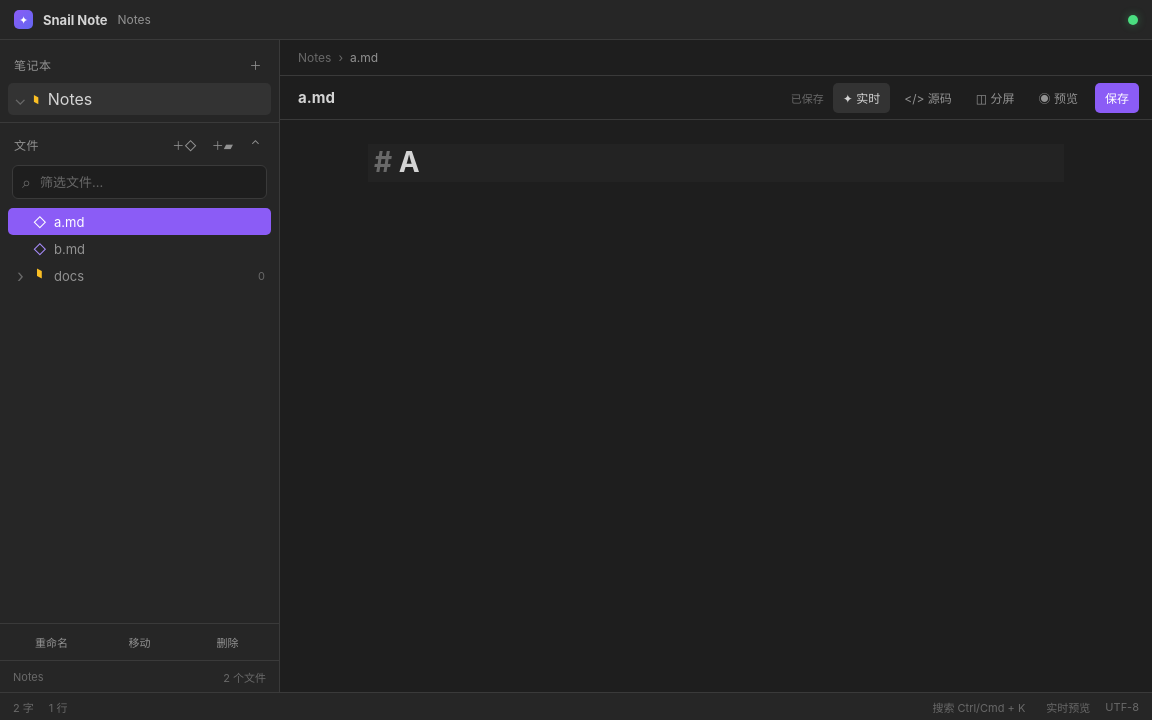
App workspace navigation › creates notes through an in-app prompt instead of window.prompt
The image size is (1152, 720).
Expected: the text "已保存" is shown, [791,90,824,106]
Click the button titled "新建笔记 (Ctrl/Cmd+N)": (184, 144) [166,131,203,158]
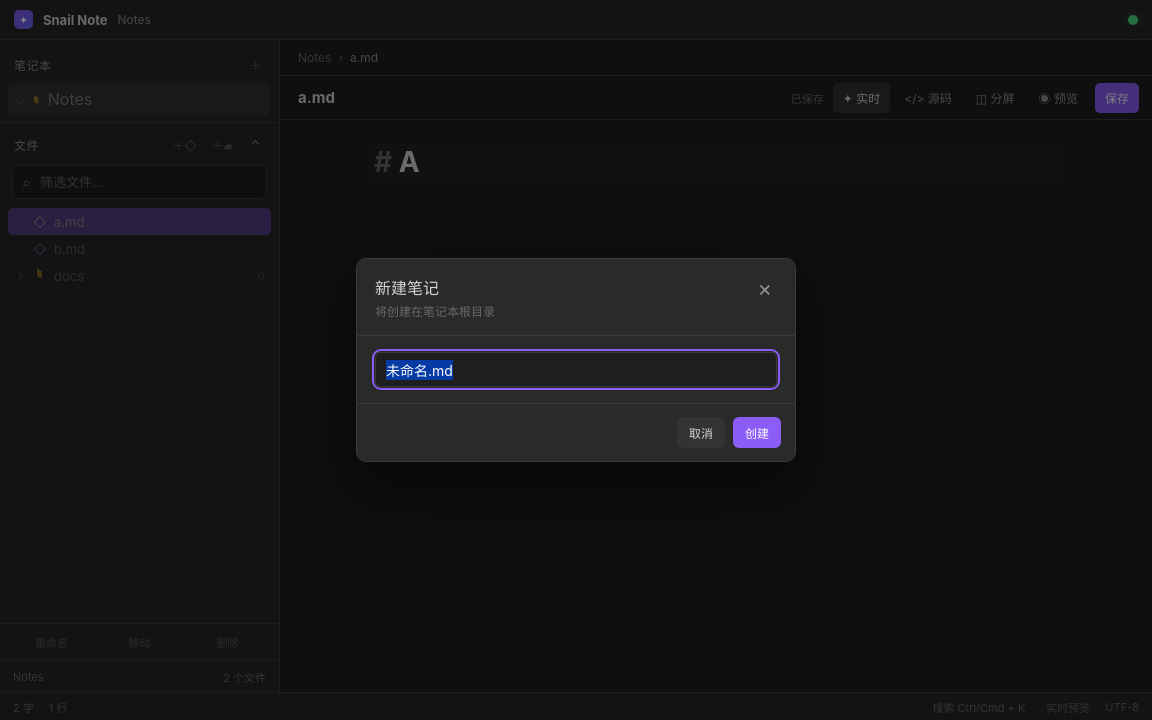
Replace the text in the field with "会议": (576, 370) [375,352,777,387]
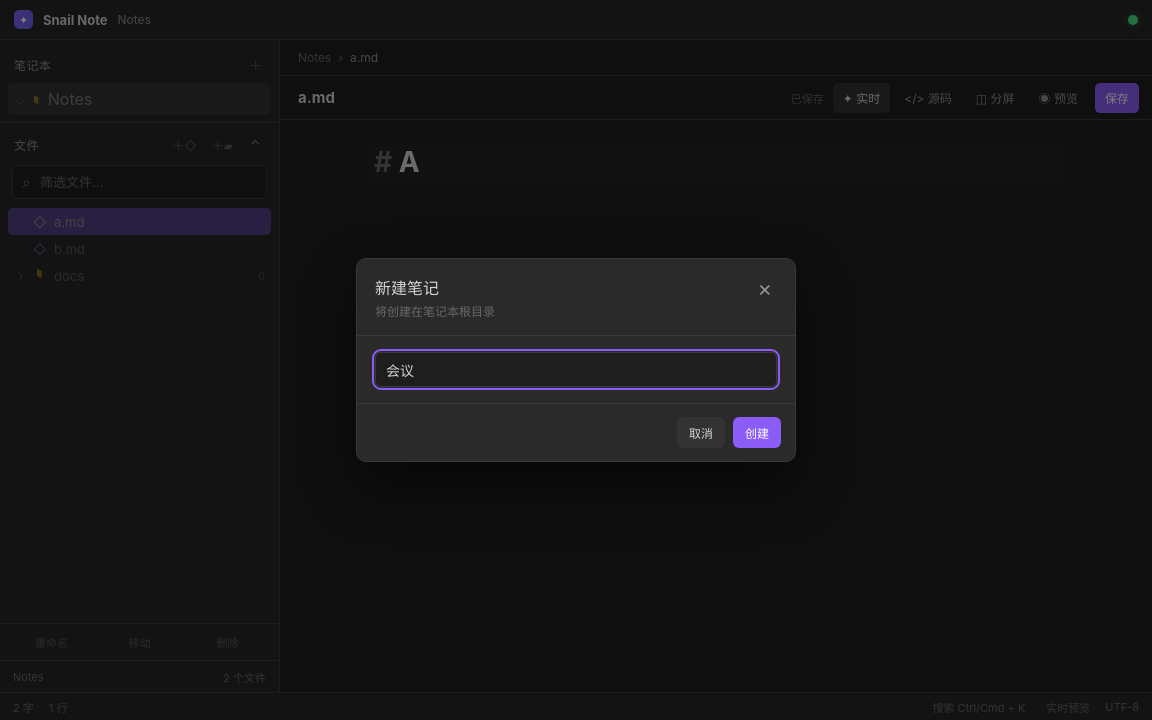
Click the button "创建": (757, 432) [733,417,781,448]
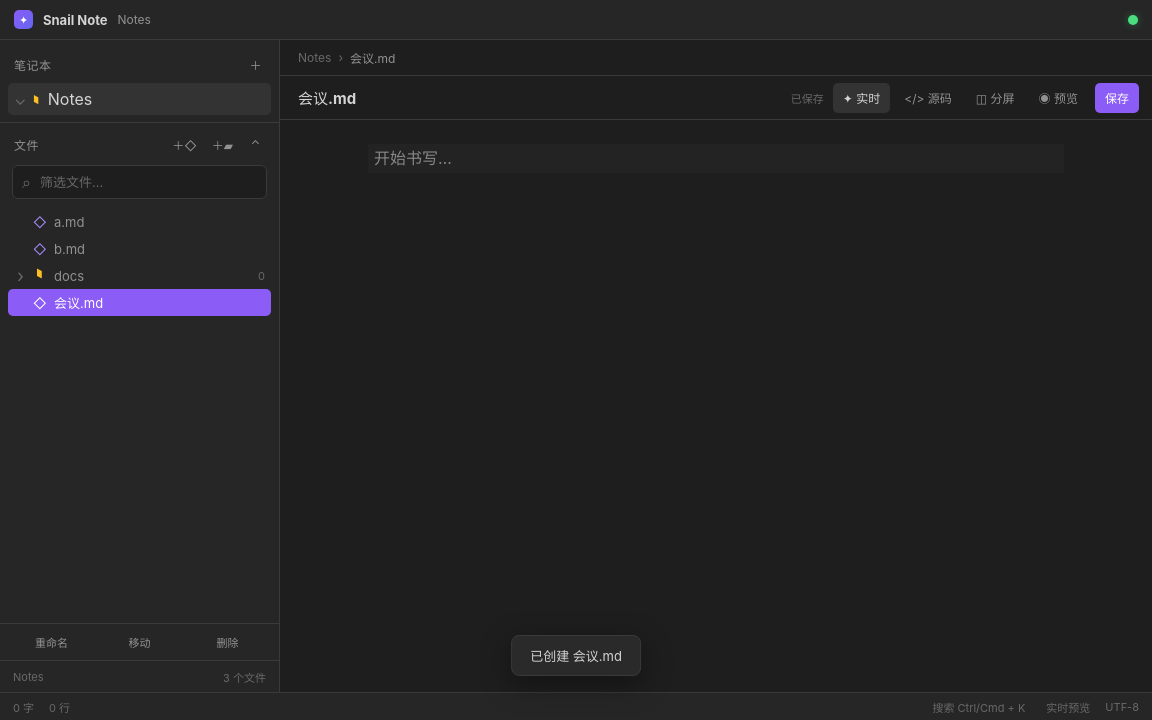
Expected: the text "已创建 会议.md" is shown, [511,635,641,676]
